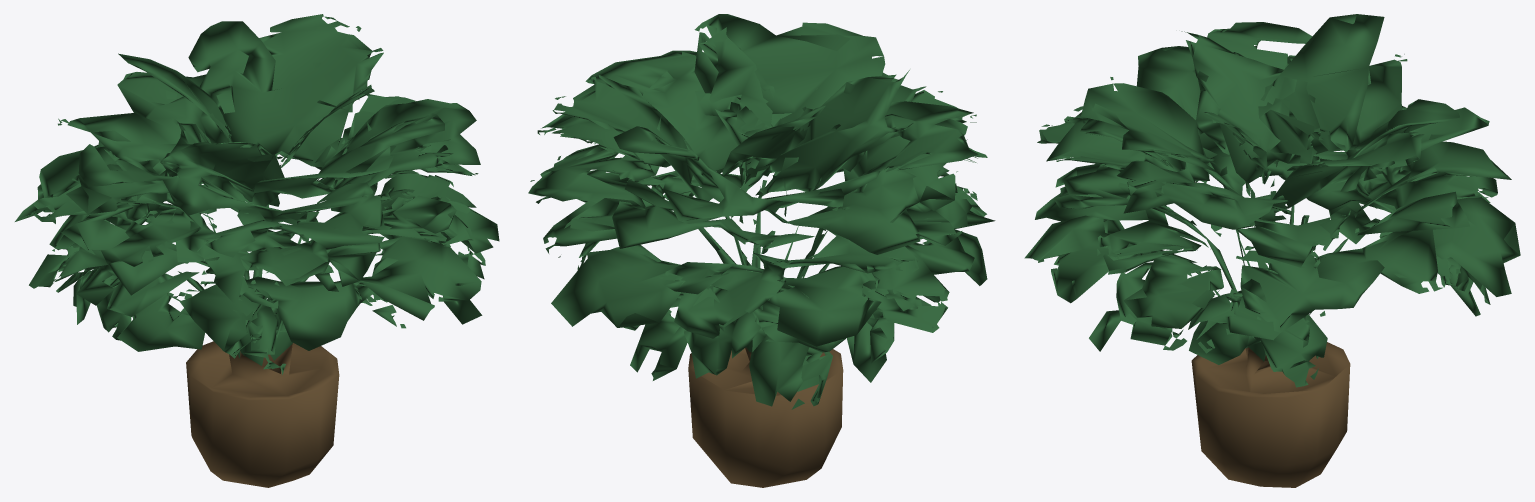
The model's file is plante_1.glb.
The picture shows the model from 3 angles, left to right: view 1: azimuth 30°, elevation 25°; view 2: azimuth 150°, elevation 25°; view 3: azimuth 270°, elevation 25°; orthographic projection. The views are drawn at different scales.
Visible parts, largest first — view 1: Mesh1; view 2: Mesh1; view 3: Mesh1.
Boxes of the visible parts, left/top/right/bottom form: Mesh1: left=15, top=14, right=499, bottom=487; Mesh1: left=528, top=14, right=995, bottom=487; Mesh1: left=1024, top=14, right=1520, bottom=487.
Bounding box in the file's own units: 1.86 × 1.71 × 1.87.
